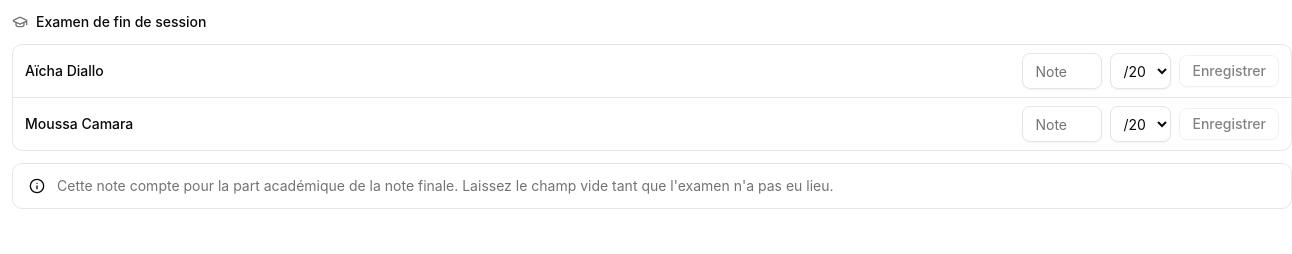
Scenario: SectionExamen › refuse une note au-dessus du barème, sans rien écrire
Type "25" into the field with placeholder "Note" in the row of "Aïcha Diallo" at (1062, 71), box x1=1022 y1=53 x2=1102 y2=89
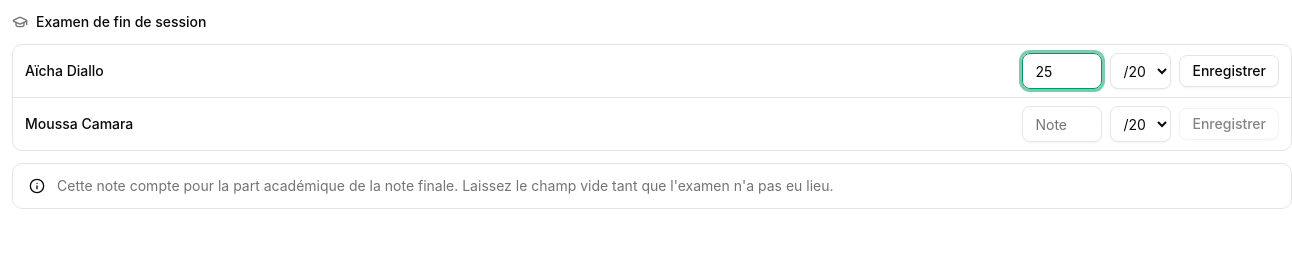
Click the button "Enregistrer" in the row of "Aïcha Diallo" at (1229, 71), box x1=1180 y1=55 x2=1279 y2=87
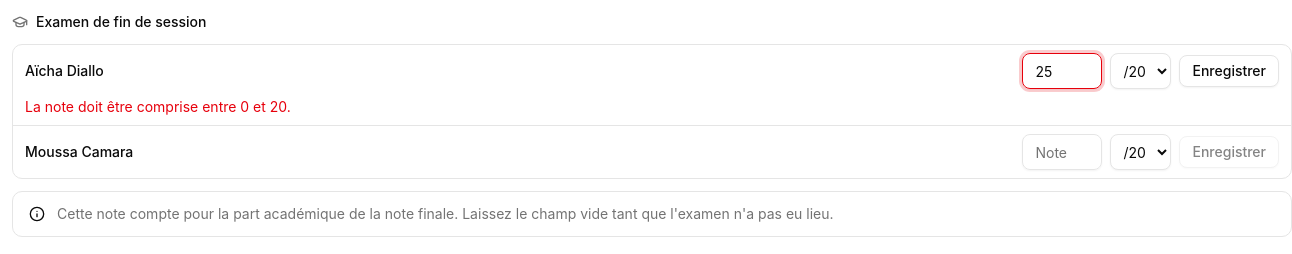
Expected: the text "La note doit être comprise entre 0 et 20." is shown, x1=25 y1=98 x2=291 y2=115
